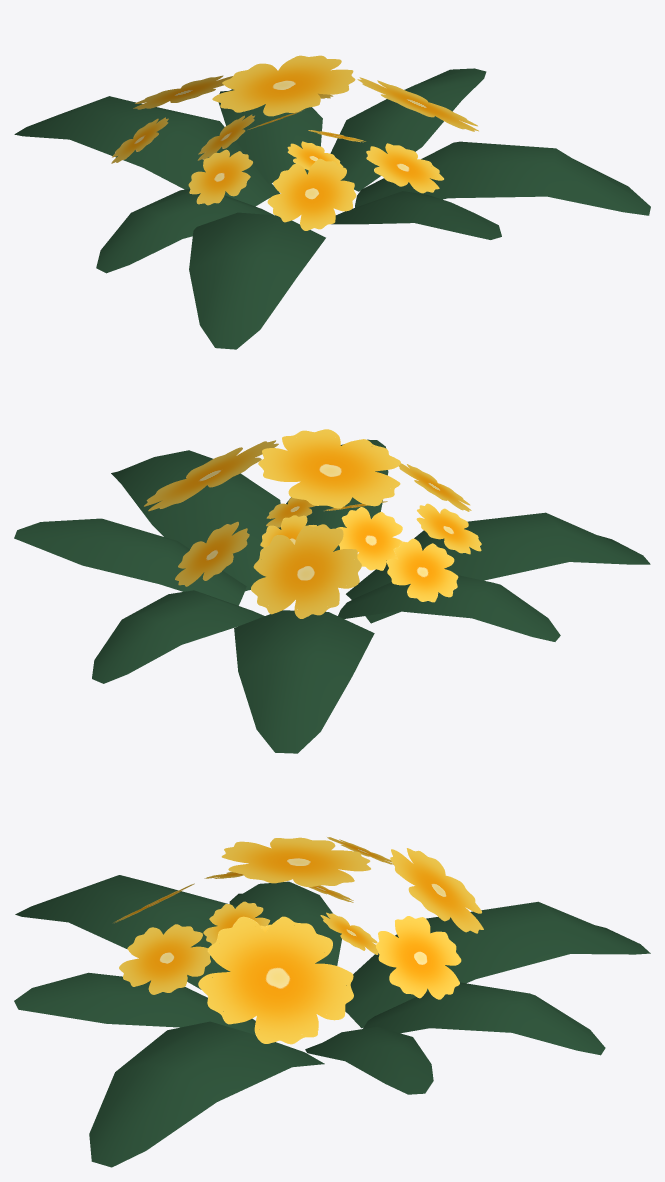
The model's file is Flower_4.fbx.
3 renders of one model, top to bottom at view 1: azimuth 30°, elevation 25°; view 2: azimuth 150°, elevation 25°; view 3: azimuth 270°, elevation 25°, orthographic. The views are drawn at different scales.
Parts seen in each view (by area): view 1: Plane018, Plane055, Plane059, Plane061, Plane058, Plane056, Plane062, Plane060, Plane066, Plane063; view 2: Plane018, Plane055, Plane062, Plane060, Plane056, Plane066, Plane057, Plane061, Plane059, Plane065, Plane064; view 3: Plane018, Plane056, Plane055, Plane057, Plane058, Plane062, Plane063, Plane065.
Part boxes in pixels (x1,y1,x2,y2): Plane018: [14, 68, 650, 349]; Plane055: [212, 55, 355, 116]; Plane059: [267, 158, 356, 230]; Plane061: [188, 149, 252, 205]; Plane058: [366, 143, 443, 193]; Plane056: [357, 77, 478, 131]; Plane062: [133, 75, 232, 109]; Plane060: [111, 117, 168, 163]; Plane066: [197, 114, 254, 160]; Plane063: [287, 141, 343, 170]; Plane018: [14, 439, 650, 753]; Plane055: [258, 429, 400, 508]; Plane062: [251, 524, 361, 618]; Plane060: [386, 538, 458, 602]; Plane056: [144, 440, 278, 511]; Plane066: [336, 507, 402, 570]; Plane057: [175, 521, 249, 586]; Plane061: [416, 503, 481, 554]; Plane059: [398, 463, 471, 511]; Plane065: [260, 515, 316, 547]; Plane064: [266, 497, 315, 527]; Plane018: [14, 875, 650, 1167]; Plane056: [198, 916, 353, 1044]; Plane055: [221, 837, 370, 887]; Plane057: [376, 916, 461, 999]; Plane058: [119, 924, 210, 994]; Plane062: [390, 848, 483, 933]; Plane063: [203, 901, 270, 944]; Plane065: [320, 912, 378, 954].
Size of the model in its own units: 13.64 by 4.47 by 13.67.
